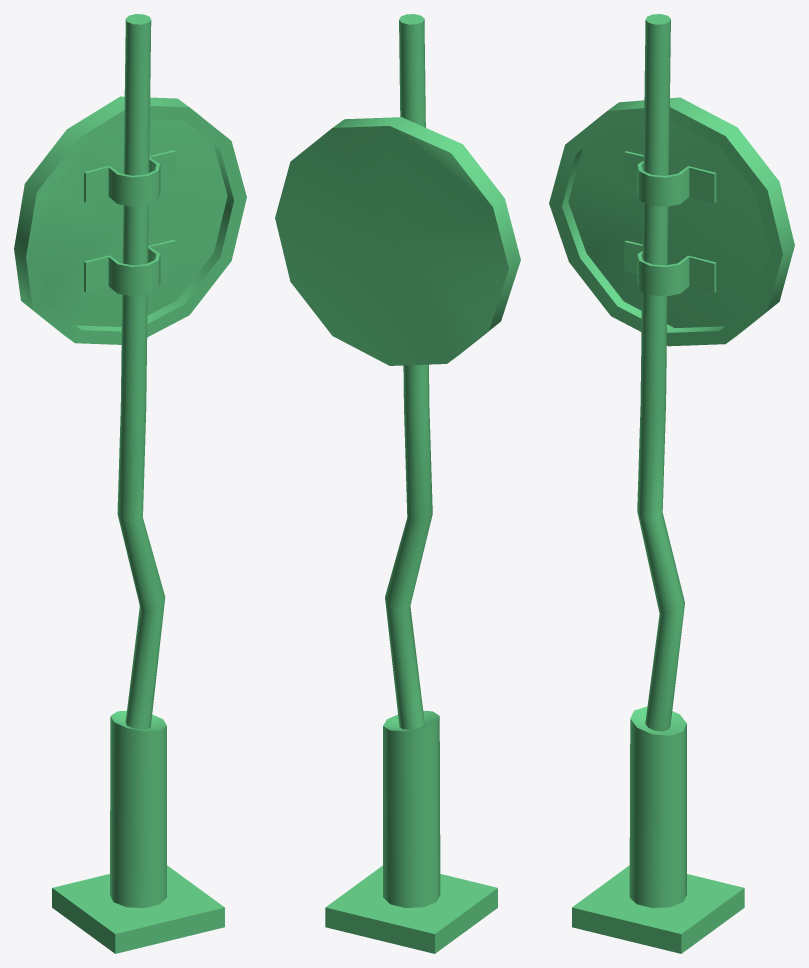
File: SM_paneauroute.fbx
3 renders of one model, left to right at view 1: azimuth 30°, elevation 25°; view 2: azimuth 150°, elevation 25°; view 3: azimuth 330°, elevation 25°, orthographic.
Visible parts, largest first — view 1: SM_panneauroute; view 2: SM_panneauroute; view 3: SM_panneauroute.
Part boxes in pixels (<box>): SM_panneauroute: <box>14,14,246,953</box>; SM_panneauroute: <box>275,14,520,953</box>; SM_panneauroute: <box>549,14,794,953</box>.
Bounding box in the file's own units: 536 × 2021 × 258.
